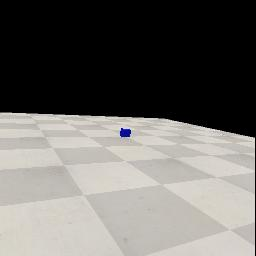box: (120, 128, 131, 137)
